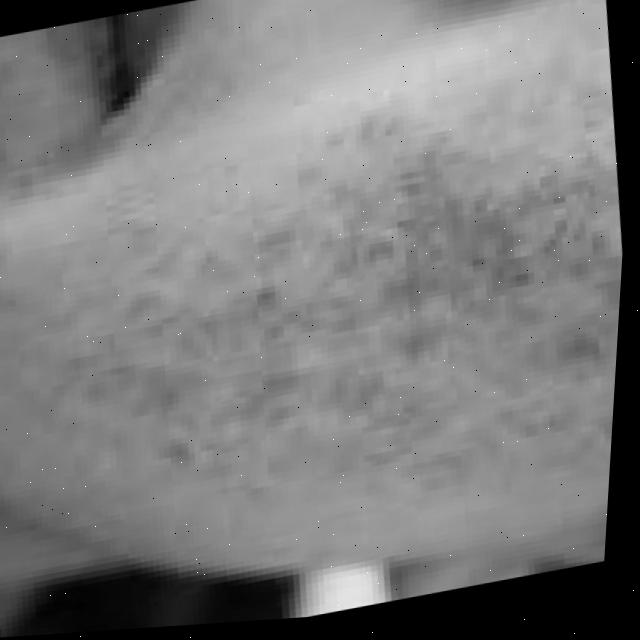Melasma: (36, 75, 633, 569)
